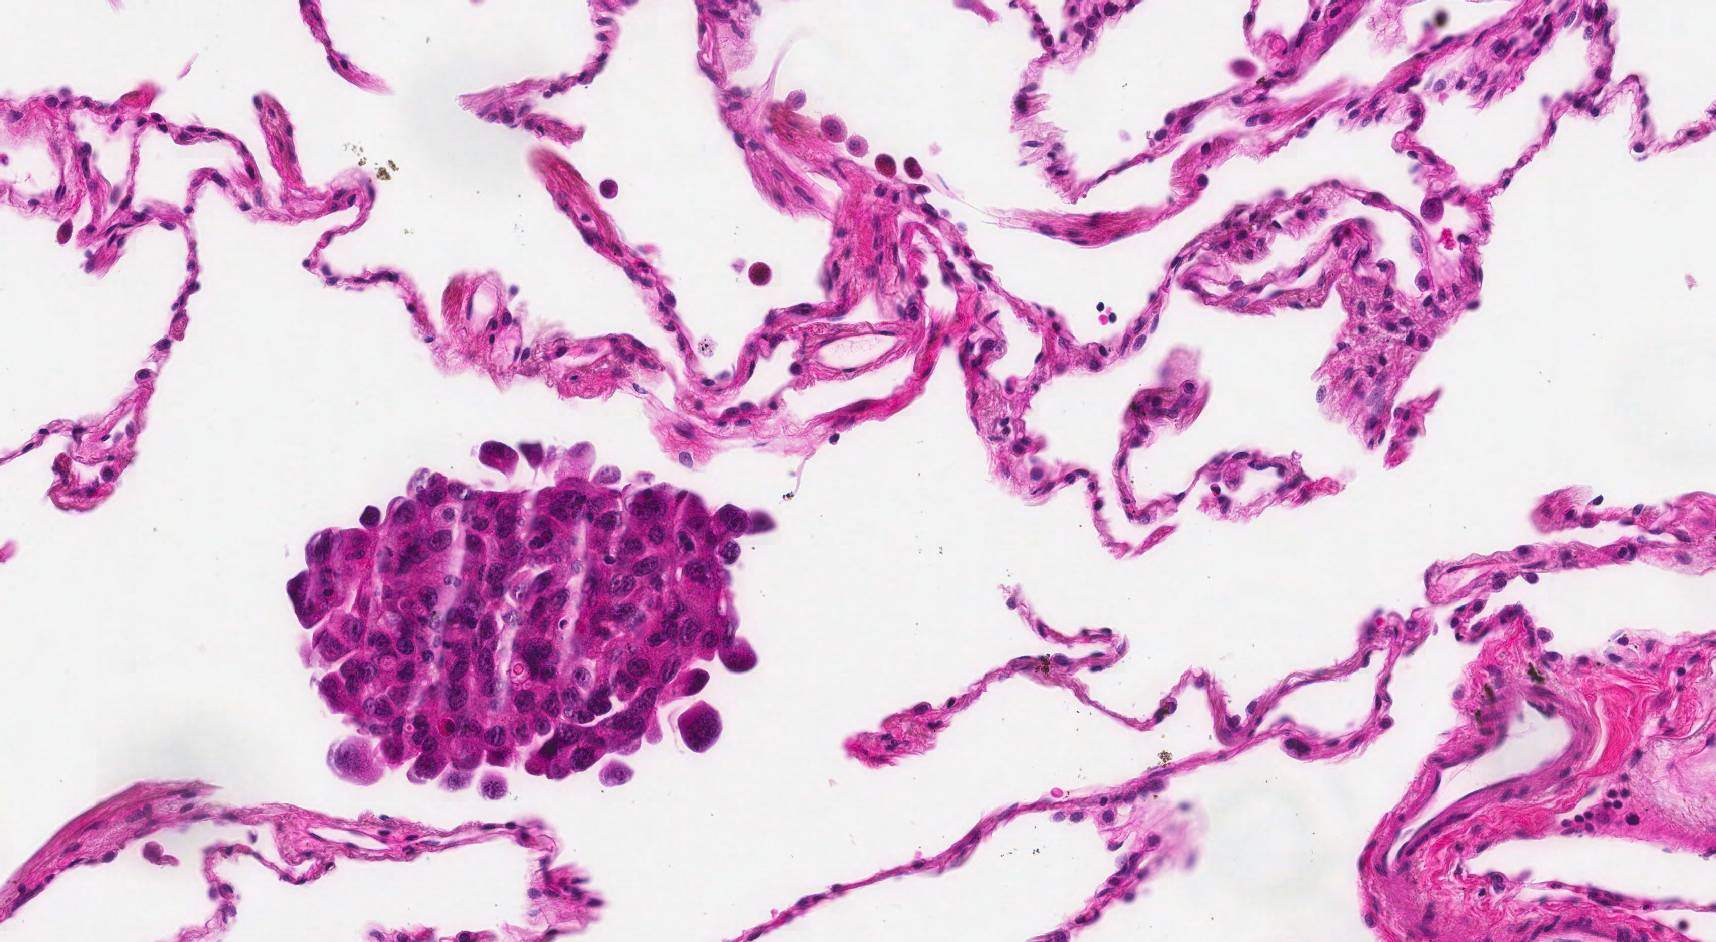stas: (286, 443, 777, 803)
